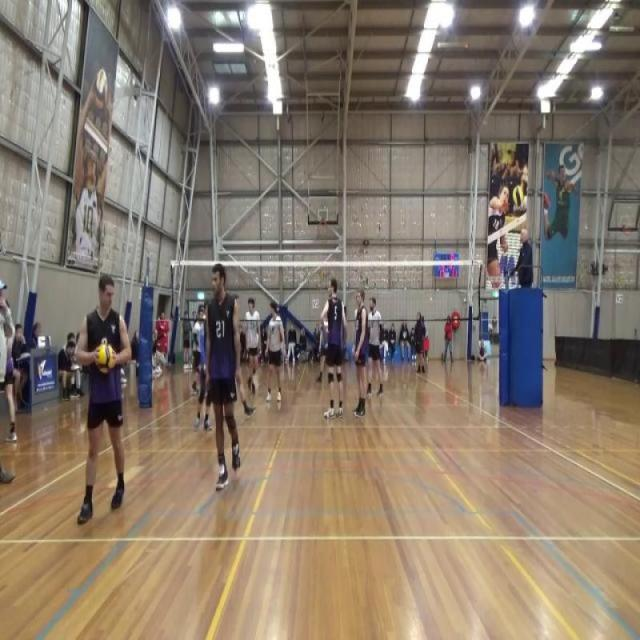volleyball: (94, 68, 110, 111), (96, 342, 116, 375), (512, 184, 526, 208)
